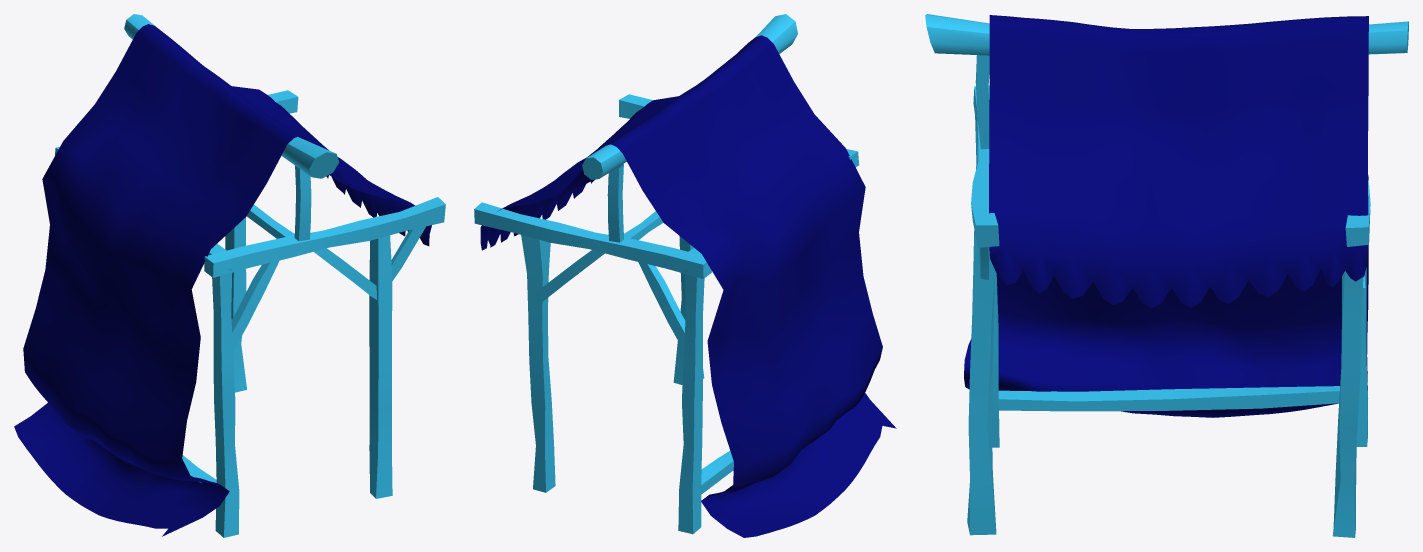
Rendered from Stall_B.fbx.
3 views of the same model, side by side, from view 1: azimuth 30°, elevation 25°; view 2: azimuth 150°, elevation 25°; view 3: azimuth 270°, elevation 25° (orthographic). The views are drawn at different scales.
Parts seen in each view (by area): view 1: Stall_B; view 2: Stall_B; view 3: Stall_B.
Boxes of the visible parts, x1,y1,x2,y2 form: Stall_B: (14,14,445,537); Stall_B: (474,14,896,537); Stall_B: (925,14,1408,537).
Size of the model in its own units: 327 by 427 by 385.
